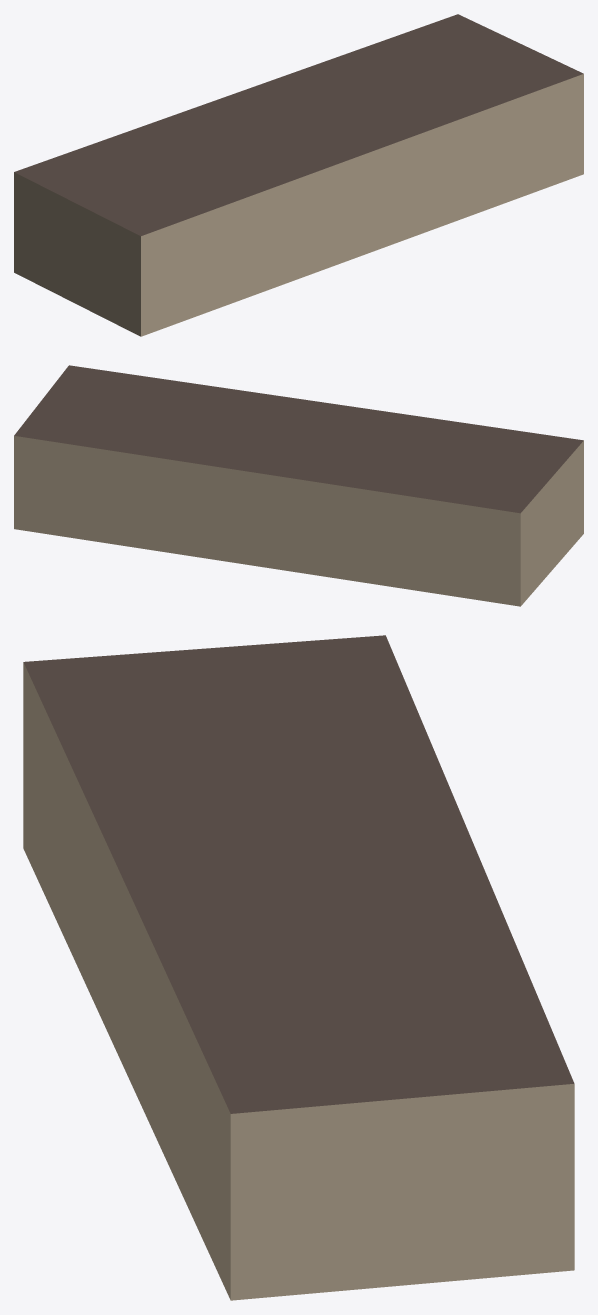
3 renders of one model, top to bottom at view 1: azimuth 30°, elevation 25°; view 2: azimuth 150°, elevation 25°; view 3: azimuth 270°, elevation 25°, orthographic. The views are drawn at different scales.
Visible parts, largest first — view 1: HP-w1512911286; view 2: HP-w1512911286; view 3: HP-w1512911286.
Part boxes in pixels (<box>): HP-w1512911286: <box>14,14,583,336</box>; HP-w1512911286: <box>14,365,583,606</box>; HP-w1512911286: <box>23,635,574,1300</box>.
Bounding box in the file's own units: 49.49 × 9 × 24.08.
